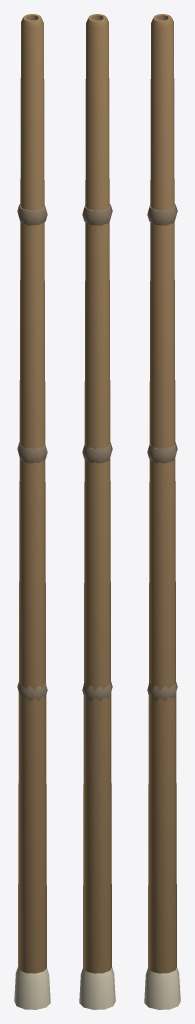
The model's file is blowgun.glb.
3 renders of one model, left to right at view 1: azimuth 30°, elevation 25°; view 2: azimuth 150°, elevation 25°; view 3: azimuth 330°, elevation 25°, orthographic.
Parts seen in each view (by area): view 1: blowgun; view 2: blowgun; view 3: blowgun.
Part boxes in pixels (x1,y1,x2,y2): blowgun: (14, 14, 50, 1009); blowgun: (79, 14, 115, 1009); blowgun: (144, 14, 180, 1009).
Bounding box in the file's own units: 0.07 × 2.07 × 0.0666.
